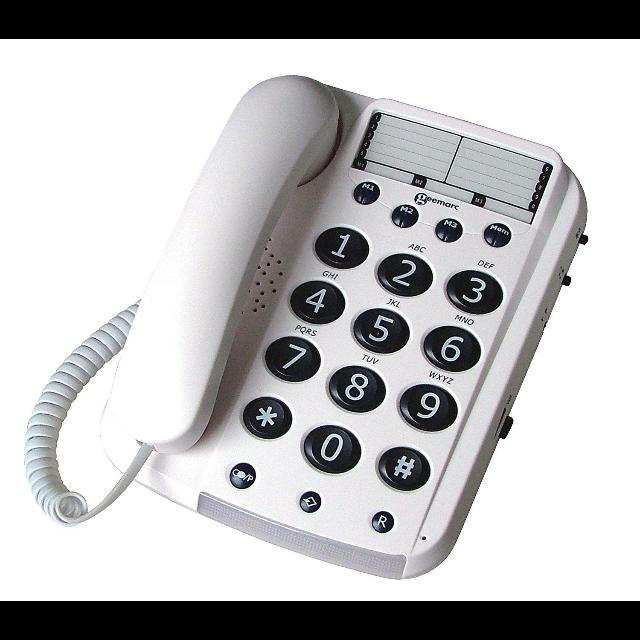Telephone-Set: (109, 54, 586, 584)
